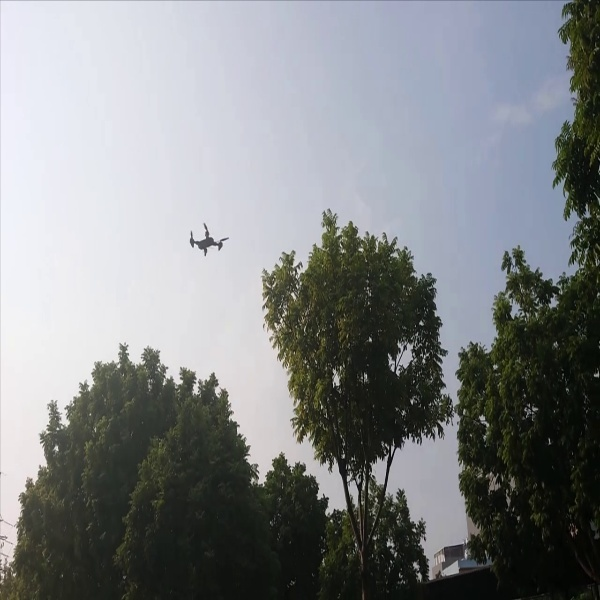drone: (183, 216, 234, 263)
